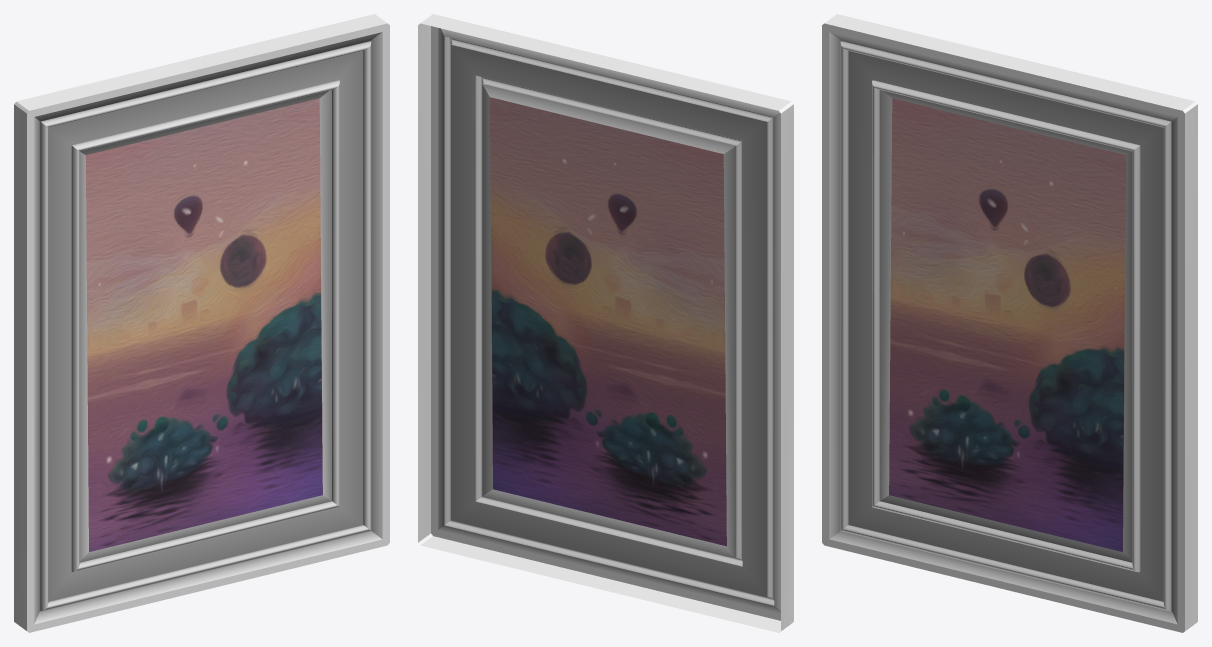
File: painting01.fbx
3 renders of one model, left to right at view 1: azimuth 30°, elevation 25°; view 2: azimuth 150°, elevation 25°; view 3: azimuth 330°, elevation 25°, orthographic.
Visible parts, largest first — view 1: painting01(Clone); view 2: painting01(Clone); view 3: painting01(Clone).
Boxes of the visible parts, box(x1,y1,x2,y2) form: painting01(Clone): box(14, 14, 389, 632); painting01(Clone): box(418, 14, 793, 632); painting01(Clone): box(822, 14, 1197, 632).
Size of the model in its own units: 0.4982 by 0.685 by 0.0306.
Materials: 3 (1 with a texture image).
